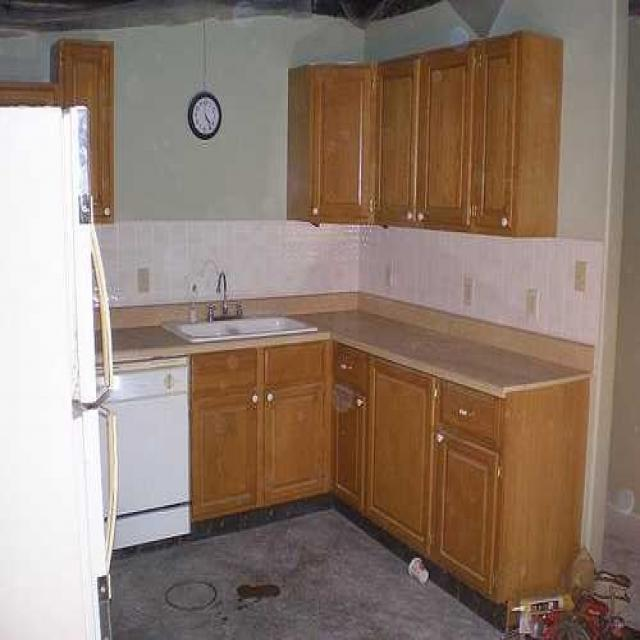refrigerator: (0, 105, 114, 640)
